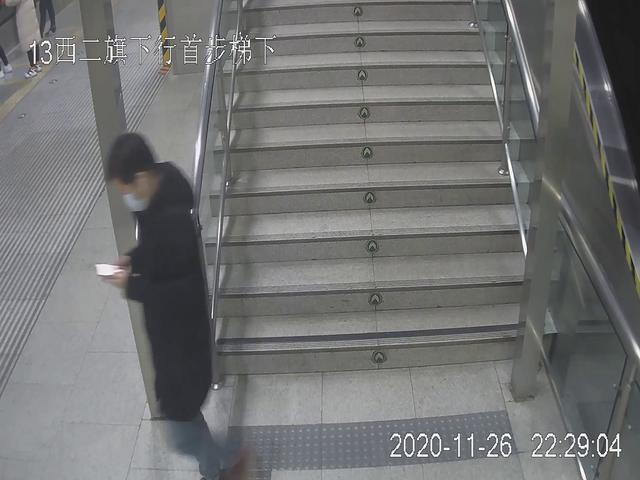person: (93, 125, 264, 480)
